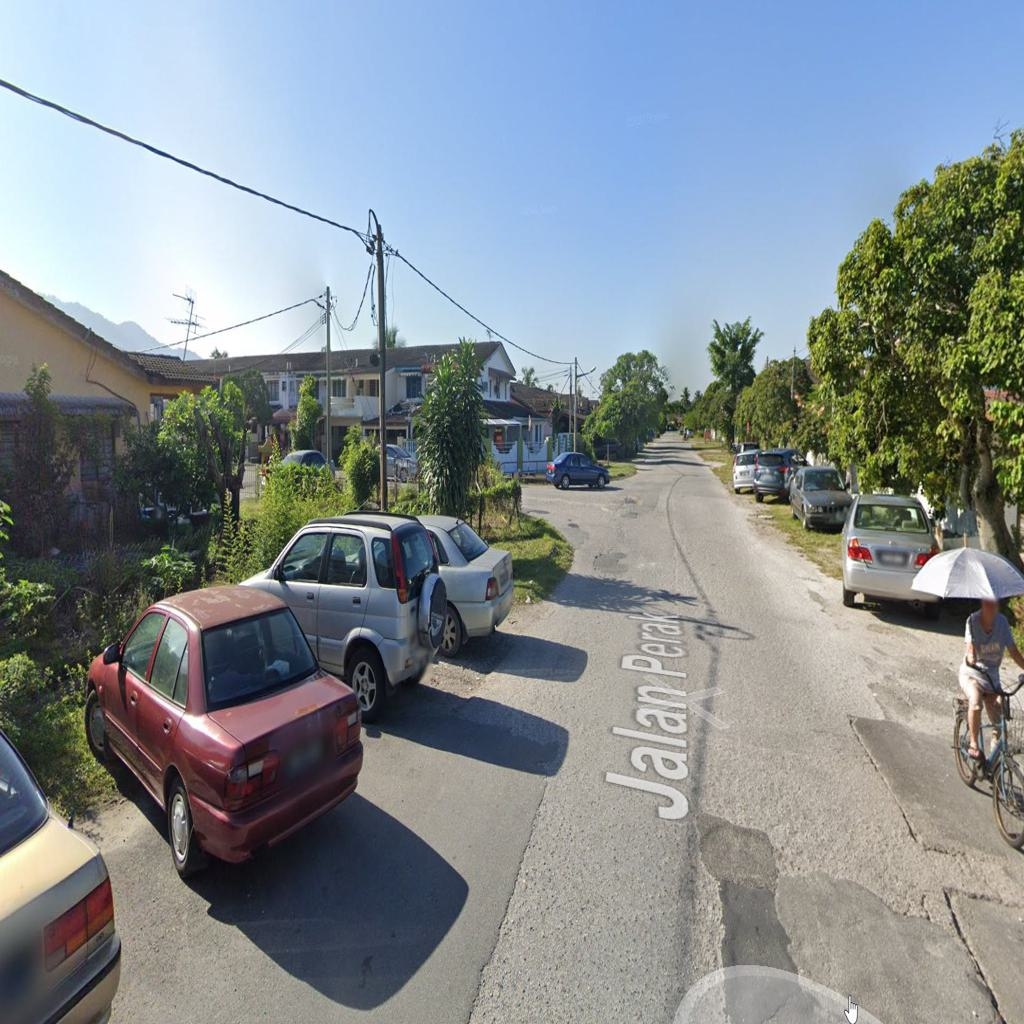Junction: (517, 443, 641, 567)
